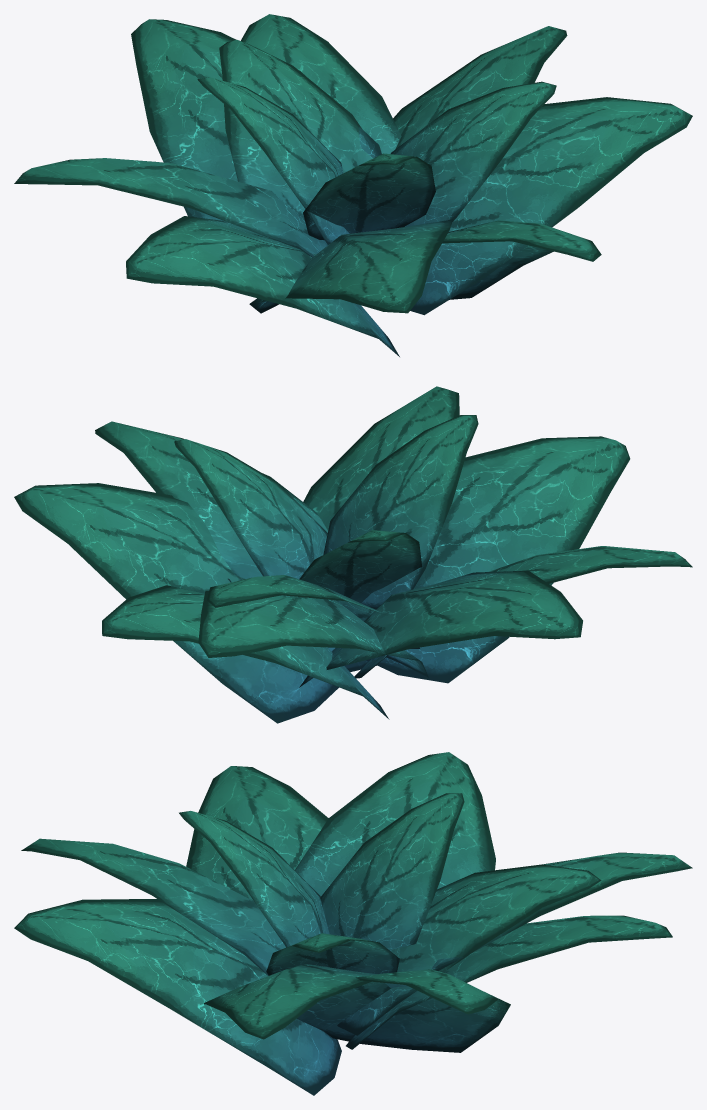
Rendered from Shrub.fbx.
3 renders of one model, top to bottom at view 1: azimuth 30°, elevation 25°; view 2: azimuth 150°, elevation 25°; view 3: azimuth 270°, elevation 25°, orthographic. The views are drawn at different scales.
Parts seen in each view (by area): view 1: Shrub; view 2: Shrub; view 3: Shrub.
Part boxes in pixels (left/top/right/bottom): Shrub: left=14, top=14, right=692, bottom=356; Shrub: left=14, top=386, right=692, bottom=723; Shrub: left=14, top=752, right=692, bottom=1095.
Size of the model in its own units: 114 by 41.71 by 117.
